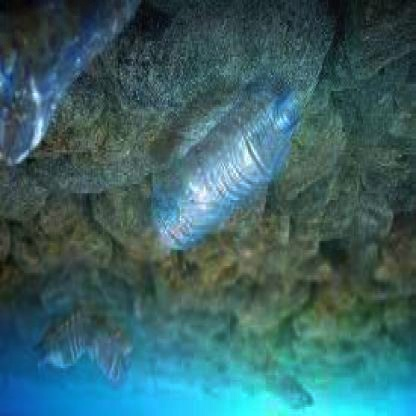pbottle: (141, 80, 304, 243), (2, 3, 145, 178), (30, 307, 129, 391)
